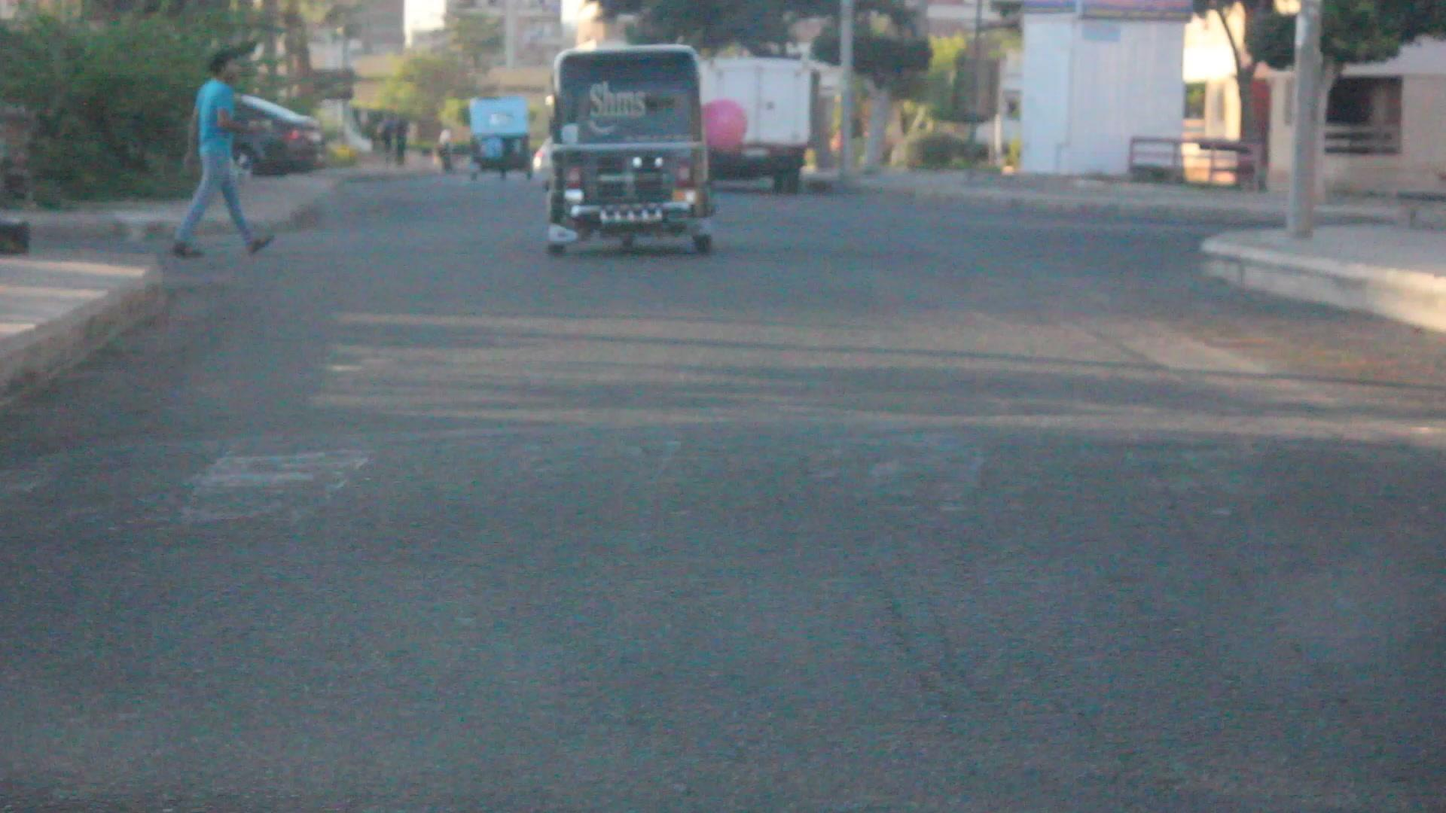Bump: (15, 420, 1446, 538)
